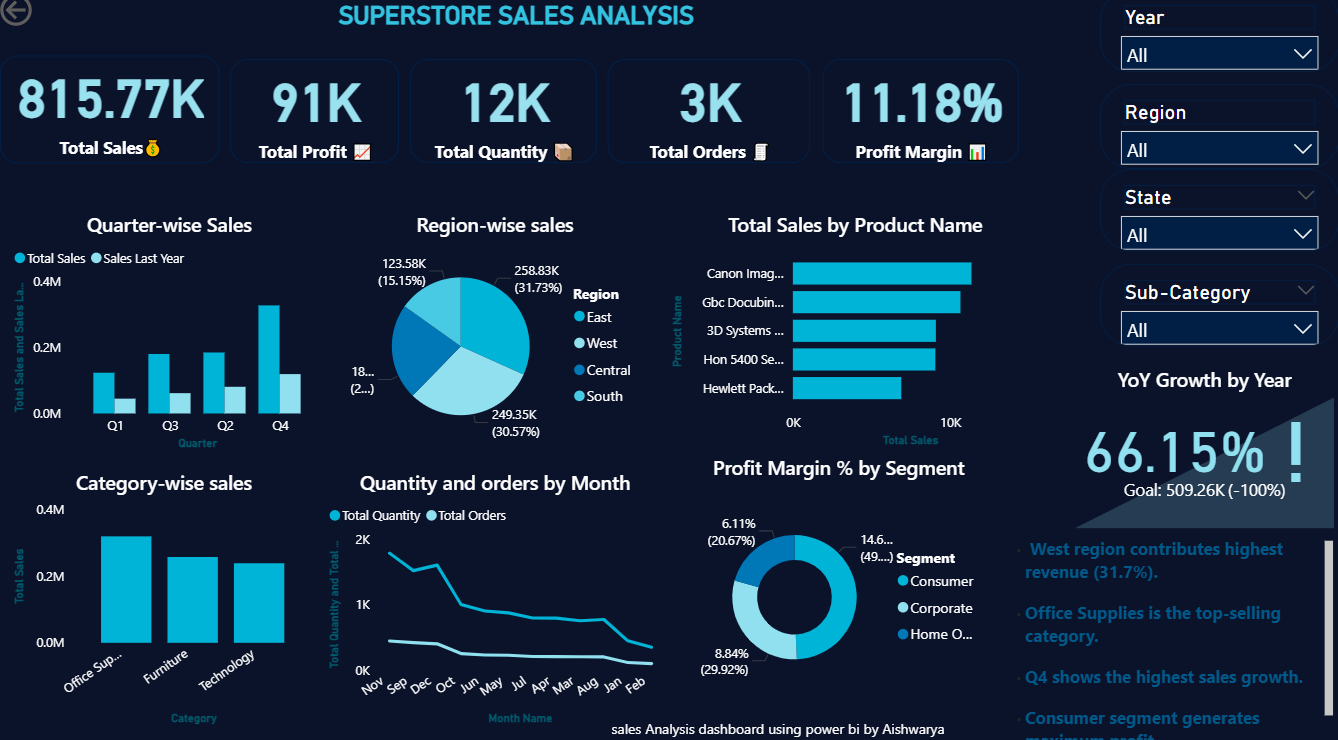

What the dashboard file says about the page in this screenshot:
{"tool":"powerbi","page":{"name":"Page 1","canvas":[1280,720],"ordinal":1},"visuals":[{"type":"cardVisual","title":"💰","fields":{"Data":["Dim_Customer.Total Sales"]},"box":[0,57.9,219.6,113.4],"z":0},{"type":"cardVisual","fields":{"Data":["Dim_Customer.Total Profit"]},"box":[219.6,61.5,171.3,109.8],"z":1000},{"type":"cardVisual","fields":{"Data":["Dim_Customer.Total Quantity"]},"box":[390.9,61.5,188.2,109.8],"z":2000},{"type":"cardVisual","fields":{"Data":["Dim_Customer.Profit Margin %"]},"box":[783,61.5,197.9,109.8],"z":3000},{"type":"cardVisual","fields":{"Data":["Dim_Customer.Total Orders"]},"box":[579.1,61.5,203.9,109.8],"z":4000},{"type":"textbox","box":[0,0,1000,58],"z":5000},{"type":"clusteredColumnChart","title":"Quarter-wise Sales ","fields":{"Category":["Dim_Date.Quarter"],"Y":["Dim_Customer.Total Sales","Dim_Customer.Sales Last Year"]},"box":[13.2,211.8,305.9,232.4],"z":6000},{"type":"columnChart","title":"Category-wise sales","fields":{"Category":["Dim_Product.Category"],"Y":["Dim_Customer.Total Sales"]},"box":[13.2,457.4,295.6,248.5],"z":7000},{"type":"pieChart","title":"Region-wise sales","fields":{"Category":["Dim_Region.Region"],"Y":["Dim_Customer.Total Sales"]},"box":[332.4,211.8,288.2,232.4],"z":8000},{"type":"donutChart","fields":{"Category":["Dim_Customer.Segment"],"Y":["Dim_Customer.Profit Margin %"]},"box":[660,443.2,288.2,248.4],"z":9000},{"type":"lineChart","title":"Quantity and orders by Month","fields":{"Y":["Dim_Customer.Total Quantity","Dim_Customer.Total Orders"],"Category":["Dim_Date.Month Name"]},"box":[313.2,457.4,326.5,248.5],"z":10000},{"type":"barChart","fields":{"Category":["Dim_Product.Product Name"],"Y":["Dim_Customer.Total Sales"]},"box":[639.7,211.8,360.3,229.4],"z":11000},{"type":"slicer","fields":{"Values":["Dim_Date.Year"]},"box":[1052.5,0,227.8,79.6],"z":12000},{"type":"slicer","fields":{"Values":["Dim_Region.State"]},"box":[1052.5,171.5,227.8,78.2],"z":13000},{"type":"slicer","fields":{"Values":["Dim_Product.Sub-Category"]},"box":[1052.5,262.1,227.8,78.2],"z":14000},{"type":"kpi","title":"YoY Growth by Year","fields":{"Indicator":["Dim_Customer.YoY Growth %"],"TrendLine":["Dim_Date.Year"],"Goal":["Dim_Customer.Total Sales"]},"box":[1023.7,359.5,256.6,159.2],"z":15000},{"type":"slicer","fields":{"Values":["Dim_Region.Region"]},"box":[1052.5,90.6,227.8,81],"z":16000},{"type":"textbox","box":[957.8,518.7,321.1,201.7],"z":17000},{"type":"textbox","box":[579.1,690.2,334.8,30.2],"z":17001},{"type":"actionButton","box":[0,0,100,40],"z":17002}]}

Visuals, with their boxes in screenshot pixels (x1, y1, x2, y2), scaled from the page's 1280x720 canvas onto the 1338x740 screenshot:
"💰" cardVisual: <region>0, 60, 230, 176</region>
cardVisual - Dim_Customer.Total Profit: <region>230, 63, 409, 176</region>
cardVisual - Dim_Customer.Total Quantity: <region>409, 63, 605, 176</region>
cardVisual - Dim_Customer.Profit Margin %: <region>818, 63, 1025, 176</region>
cardVisual - Dim_Customer.Total Orders: <region>605, 63, 818, 176</region>
textbox: <region>0, 0, 1045, 60</region>
"Quarter-wise Sales " clusteredColumnChart: <region>14, 218, 334, 457</region>
"Category-wise sales" columnChart: <region>14, 470, 323, 726</region>
"Region-wise sales" pieChart: <region>347, 218, 649, 457</region>
donutChart - Dim_Customer.Segment x Dim_Customer.Profit Margin %: <region>690, 456, 991, 711</region>
"Quantity and orders by Month" lineChart: <region>327, 470, 669, 726</region>
barChart - Dim_Product.Product Name x Dim_Customer.Total Sales: <region>669, 218, 1045, 453</region>
slicer - Dim_Date.Year: <region>1100, 0, 1337, 82</region>
slicer - Dim_Region.State: <region>1100, 176, 1337, 257</region>
slicer - Dim_Product.Sub-Category: <region>1100, 269, 1337, 350</region>
"YoY Growth by Year" kpi: <region>1070, 369, 1337, 533</region>
slicer - Dim_Region.Region: <region>1100, 93, 1337, 176</region>
textbox: <region>1001, 533, 1337, 739</region>
textbox: <region>605, 709, 955, 739</region>
actionButton: <region>0, 0, 105, 41</region>
